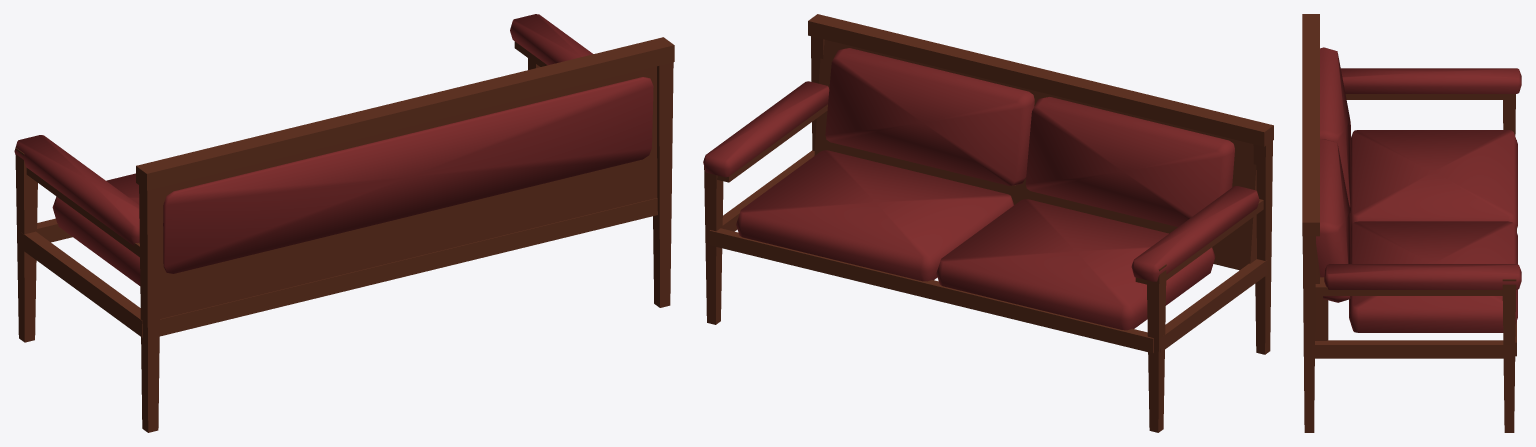
The model's file is parametric-sofa-2nd.glb.
3 views of the same model, side by side, from view 1: azimuth 30°, elevation 25°; view 2: azimuth 150°, elevation 25°; view 3: azimuth 270°, elevation 25° (orthographic). The views are drawn at different scales.
Visible parts, largest first — view 1: parametric-sofa-2nd; view 2: parametric-sofa-2nd; view 3: parametric-sofa-2nd.
Part boxes in pixels (box(x1,y1,x2,y2)): parametric-sofa-2nd: box(14, 14, 674, 432); parametric-sofa-2nd: box(703, 14, 1273, 432); parametric-sofa-2nd: box(1302, 14, 1521, 432).
Size of the model in its own units: 1.8 by 0.85 by 0.8.
